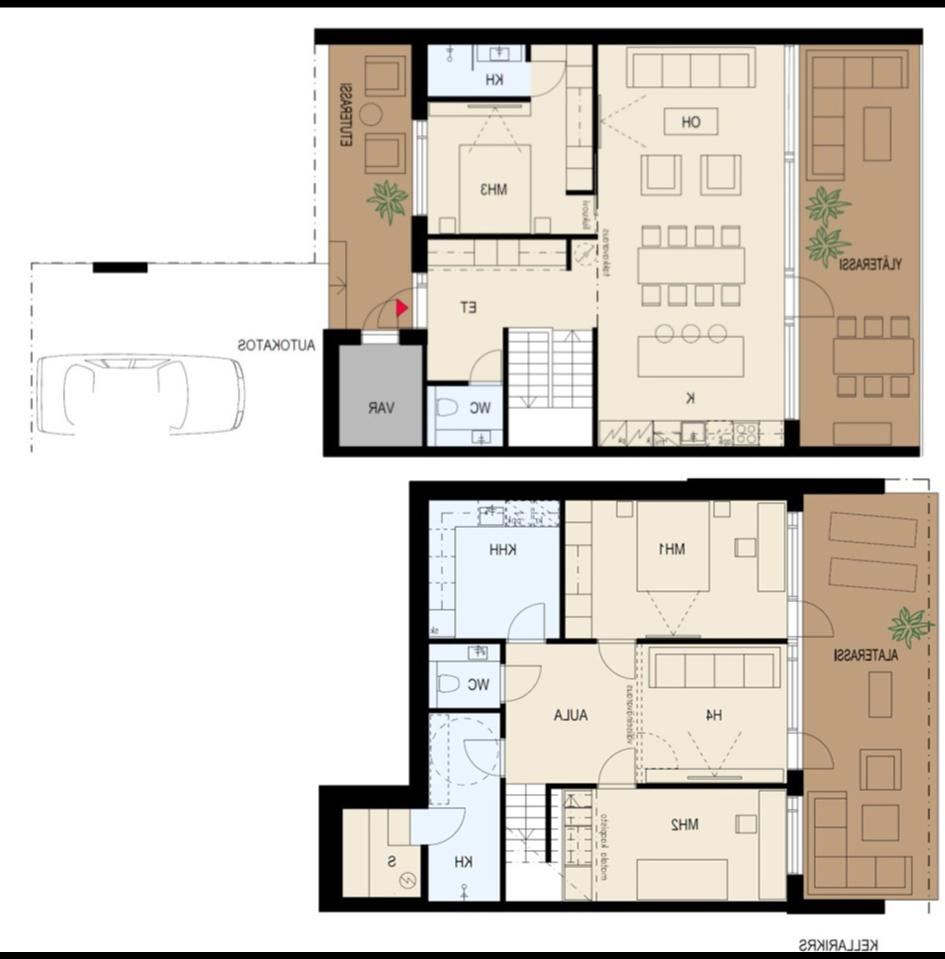bathroom: (426, 384, 502, 445), (423, 659, 500, 707)
door: (784, 272, 838, 323), (417, 801, 468, 852), (785, 726, 837, 776), (592, 630, 640, 684), (500, 597, 548, 650), (464, 732, 509, 781), (384, 282, 430, 329), (497, 660, 544, 706), (785, 597, 833, 642), (596, 745, 640, 793), (522, 56, 566, 100), (465, 343, 506, 388), (362, 295, 398, 342)
perimeter: (318, 482, 807, 913), (320, 27, 798, 457)
stairs: (503, 328, 554, 410), (504, 782, 548, 862), (552, 328, 592, 410)
window: (402, 109, 434, 222), (776, 634, 809, 732), (777, 320, 805, 426), (779, 152, 802, 273), (780, 36, 801, 160), (783, 790, 810, 884), (785, 502, 808, 597)
